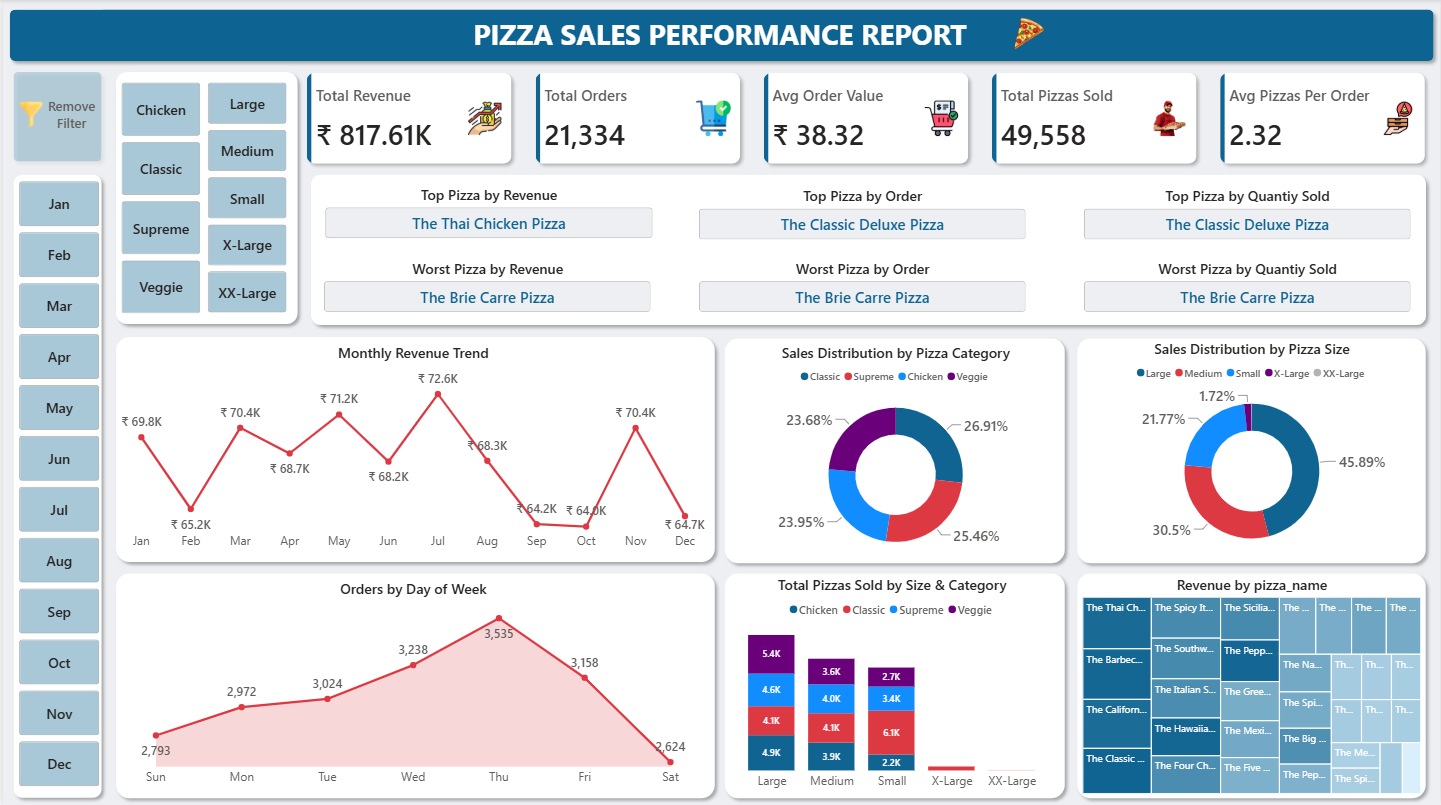

Layout of this report page (visuals, bound fields, positions):
{"tool":"powerbi","page":{"name":"Dashboard","canvas":[1920,1080],"ordinal":0},"visuals":[{"type":"cardVisual","fields":{"Data":["All_Measures.Total Revenue","All_Measures.Total Orders","All_Measures.Avg Order Value","All_Measures.Total Pizza Sold","All_Measures.Avg Pizza Per Order"]},"box":[389.1,81.4,1531,155.6],"z":0},{"type":"shape","box":[0,5.4,1920,86.9],"z":1000},{"type":"shape","box":[5.4,88.7,135.7,137.5],"z":2000},{"type":"shape","box":[5.4,226.2,135.7,850.5],"z":3000},{"type":"shape","box":[141.2,88.7,260.6,354.7],"z":4000},{"type":"shape","box":[401.7,226.2,1507.4,219],"z":5000},{"type":"shape","box":[141.4,442.7,818,318.5],"z":6000},{"type":"shape","box":[955.8,444.5,472.1,318.5],"z":7000},{"type":"shape","box":[1426,444.5,483.4,318.5],"z":8000},{"type":"shape","box":[1426,757.5,483.4,318.5],"z":9000},{"type":"shape","box":[955.8,757.5,472.1,318.5],"z":10000},{"type":"shape","box":[141.4,757.5,818,318.5],"z":11000},{"type":"lineChart","title":"Monthly Revenue Trend","fields":{"Y":["All_Measures.Total Revenue"],"Category":["Pizza_Sales.Month Name"]},"box":[153.8,459.7,789,285.9],"z":12000},{"type":"areaChart","title":"Orders by Day of Week","fields":{"Category":["Pizza_Sales.Day Name"],"Y":["All_Measures.Total Orders"]},"box":[153.8,774.5,789,285.9],"z":13000},{"type":"donutChart","title":"Sales Distribution by Pizza Category","fields":{"Category":["Pizza_Sales.pizza_category"],"Y":["All_Measures.Total Revenue"]},"box":[971.8,459.7,441.6,298.6],"z":14000},{"type":"donutChart","title":"Sales Distribution by Pizza Size","fields":{"Y":["All_Measures.Total Revenue"],"Category":["Pizza_Sales.pizza_size"]},"box":[1436.9,454.2,461.5,298.6],"z":15000},{"type":"columnChart","title":"Total Pizzas Sold by Size & Category","fields":{"Category":["Pizza_Sales.pizza_size"],"Y":["All_Measures.Total Pizzas Sold"],"Series":["Pizza_Sales.pizza_category"]},"box":[959.2,769.8,459,296.4],"z":16000},{"type":"treemap","title":"Revenue by pizza_name","fields":{"Group":["Pizza_Sales.pizza_name"],"Values":["All_Measures.Total Revenue"]},"box":[1436.9,769.1,461.5,296.8],"z":17000},{"type":"advancedSlicerVisual","title":"Top Pizza by Revenue","fields":{"Values":["Pizza_Sales.pizza_name"]},"box":[426.2,249.1,447.3,76.2],"z":18000},{"type":"advancedSlicerVisual","title":"Worst Pizza by Revenue","fields":{"Values":["Pizza_Sales.pizza_name"]},"box":[423.9,347.7,446.5,76.3],"z":19000},{"type":"advancedSlicerVisual","title":"Top Pizza by Order","fields":{"Values":["Pizza_Sales.pizza_name"]},"box":[924.6,250.8,446.5,76.3],"z":20000},{"type":"advancedSlicerVisual","title":"Worst Pizza by Order","fields":{"Values":["Pizza_Sales.pizza_name"]},"box":[924.6,347.7,446.5,76.3],"z":21000},{"type":"advancedSlicerVisual","title":"Top Pizza by Quantiy Sold","fields":{"Values":["Pizza_Sales.pizza_name"]},"box":[1438.8,250.8,446.5,76.3],"z":22000},{"type":"advancedSlicerVisual","title":"Worst Pizza by Quantiy Sold","fields":{"Values":["Pizza_Sales.pizza_name"]},"box":[1438.8,347.7,446.5,76.3],"z":23000},{"type":"advancedSlicerVisual","fields":{"Values":["Pizza_Sales.Month Name"]},"box":[16.5,238.8,117.3,827.4],"z":24000},{"type":"textbox","box":[5.4,16.3,1905.6,61.5],"z":25000},{"type":"actionButton","box":[16.3,117.6,117.6,74.2],"z":26000},{"type":"image","box":[1326.5,21.7,86.9,50.7],"z":27000},{"type":"advancedSlicerVisual","fields":{"Values":["Pizza_Sales.pizza_category"]},"box":[153.8,106.8,115.8,318.5],"z":28000},{"type":"advancedSlicerVisual","fields":{"Values":["Pizza_Sales.pizza_size"]},"box":[269.6,106.8,115.8,318.5],"z":29000}]}

Visuals, with their boxes in screenshot pixels (x1, y1, x2, y2), scaled from the page's 1920x1080 canvas onto the 1441x805 screenshot:
cardVisual - All_Measures.Total Revenue x All_Measures.Total Orders: pyautogui.locateOnScreen(292, 61, 1440, 177)
shape: pyautogui.locateOnScreen(0, 4, 1440, 69)
shape: pyautogui.locateOnScreen(4, 66, 106, 169)
shape: pyautogui.locateOnScreen(4, 169, 106, 803)
shape: pyautogui.locateOnScreen(106, 66, 302, 330)
shape: pyautogui.locateOnScreen(301, 169, 1433, 332)
shape: pyautogui.locateOnScreen(106, 330, 720, 567)
shape: pyautogui.locateOnScreen(717, 331, 1072, 569)
shape: pyautogui.locateOnScreen(1070, 331, 1433, 569)
shape: pyautogui.locateOnScreen(1070, 565, 1433, 802)
shape: pyautogui.locateOnScreen(717, 565, 1072, 802)
shape: pyautogui.locateOnScreen(106, 565, 720, 802)
"Monthly Revenue Trend" lineChart: pyautogui.locateOnScreen(115, 343, 708, 556)
"Orders by Day of Week" areaChart: pyautogui.locateOnScreen(115, 577, 708, 790)
"Sales Distribution by Pizza Category" donutChart: pyautogui.locateOnScreen(729, 343, 1061, 565)
"Sales Distribution by Pizza Size" donutChart: pyautogui.locateOnScreen(1078, 339, 1425, 561)
"Total Pizzas Sold by Size & Category" columnChart: pyautogui.locateOnScreen(720, 574, 1064, 795)
"Revenue by pizza_name" treemap: pyautogui.locateOnScreen(1078, 573, 1425, 794)
"Top Pizza by Revenue" advancedSlicerVisual: pyautogui.locateOnScreen(320, 186, 656, 242)
"Worst Pizza by Revenue" advancedSlicerVisual: pyautogui.locateOnScreen(318, 259, 653, 316)
"Top Pizza by Order" advancedSlicerVisual: pyautogui.locateOnScreen(694, 187, 1029, 244)
"Worst Pizza by Order" advancedSlicerVisual: pyautogui.locateOnScreen(694, 259, 1029, 316)
"Top Pizza by Quantiy Sold" advancedSlicerVisual: pyautogui.locateOnScreen(1080, 187, 1415, 244)
"Worst Pizza by Quantiy Sold" advancedSlicerVisual: pyautogui.locateOnScreen(1080, 259, 1415, 316)
advancedSlicerVisual - Pizza_Sales.Month Name: pyautogui.locateOnScreen(12, 178, 100, 795)
textbox: pyautogui.locateOnScreen(4, 12, 1434, 58)
actionButton: pyautogui.locateOnScreen(12, 88, 100, 143)
image: pyautogui.locateOnScreen(996, 16, 1061, 54)
advancedSlicerVisual - Pizza_Sales.pizza_category: pyautogui.locateOnScreen(115, 80, 202, 317)
advancedSlicerVisual - Pizza_Sales.pizza_size: pyautogui.locateOnScreen(202, 80, 289, 317)
